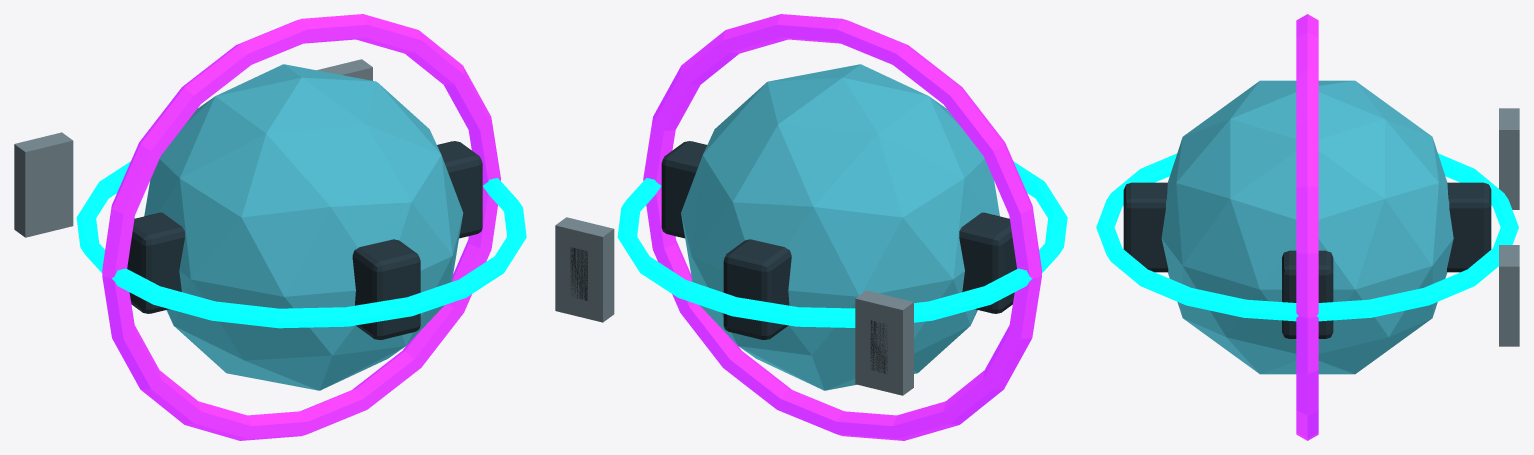
The model's file is Energy-Core.glb.
The picture shows the model from 3 angles, left to right: view 1: azimuth 30°, elevation 25°; view 2: azimuth 150°, elevation 25°; view 3: azimuth 270°, elevation 25°; orthographic projection. The views are drawn at different scales.
Parts seen in each view (by area): view 1: EnergyCore_Faceted, EnergyCore_Ring_X, EnergyCore_Ring_Z, Detail_Assembly, EnergyCore_Grip_3, EnergyCore_Grip_2, EnergyCore_Grip_0; view 2: EnergyCore_Faceted, EnergyCore_Ring_X, Detail_Assembly, EnergyCore_Ring_Z, EnergyCore_Grip_1, EnergyCore_Grip_2, EnergyCore_Grip_0; view 3: EnergyCore_Faceted, EnergyCore_Ring_Z, EnergyCore_Ring_X, Detail_Assembly, EnergyCore_Grip_3, EnergyCore_Grip_1, EnergyCore_Grip_0.
Boxes of the visible parts, x1,y1,x2,y2 form: EnergyCore_Faceted: (144,64,463,390); EnergyCore_Ring_X: (102,14,500,440); EnergyCore_Ring_Z: (76,161,526,328); Detail_Assembly: (14,59,372,237); EnergyCore_Grip_3: (352,239,420,339); EnergyCore_Grip_2: (127,212,184,313); EnergyCore_Grip_0: (437,141,482,238); EnergyCore_Faceted: (681,64,999,390); EnergyCore_Ring_X: (643,14,1041,440); Detail_Assembly: (555,217,913,395); EnergyCore_Ring_Z: (617,161,1067,327); EnergyCore_Grip_1: (723,239,791,339); EnergyCore_Grip_2: (959,212,1016,313); EnergyCore_Grip_0: (661,141,706,238); EnergyCore_Faceted: (1161,80,1453,374); EnergyCore_Ring_Z: (1096,153,1518,321); EnergyCore_Ring_X: (1296,14,1318,440); Detail_Assembly: (1499,108,1519,346); EnergyCore_Grip_3: (1123,182,1168,272); EnergyCore_Grip_1: (1446,182,1491,272); EnergyCore_Grip_0: (1282,250,1333,338).
Size of the model in its own units: 1.17 by 1.17 by 1.15.
